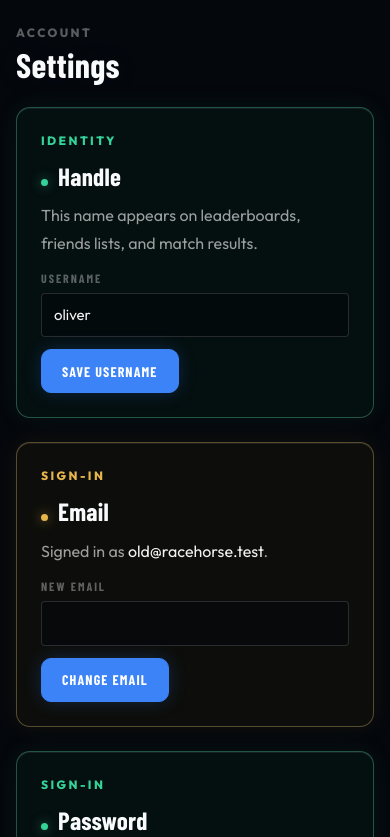
Test: SettingsScreen — email › sends the change and reports it as pending, not done
This screenshot has width=390, height=837.
In the field labelled "New email": (195, 623) top-left (41, 601), bottom-right (349, 646), type "new@racehorse.test"
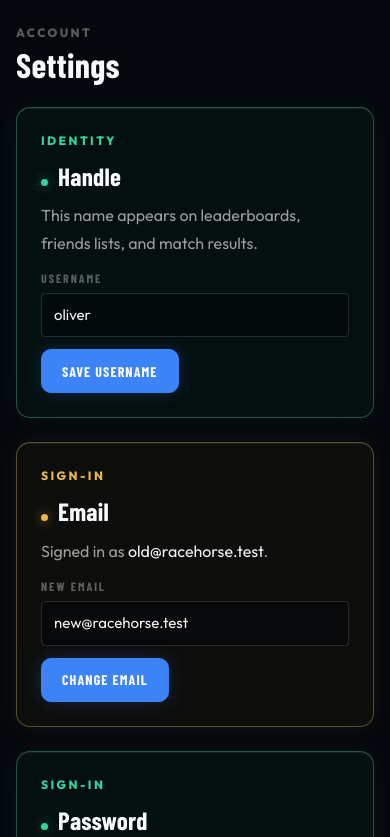
Click the button "Change email": (105, 680) top-left (41, 658), bottom-right (169, 702)
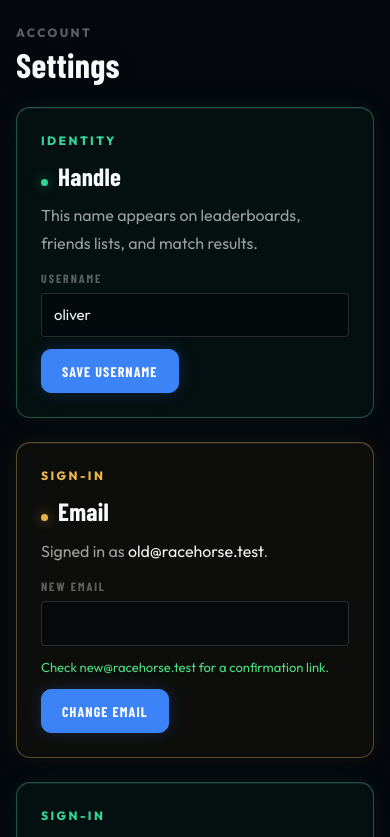
Expected: the text "old@racehorse.test" is shown, top-left (128, 541), bottom-right (264, 561)
Now the text "Check new@racehorse.test for a confirmation link." is shown, box top-left (41, 658), bottom-right (329, 677)
